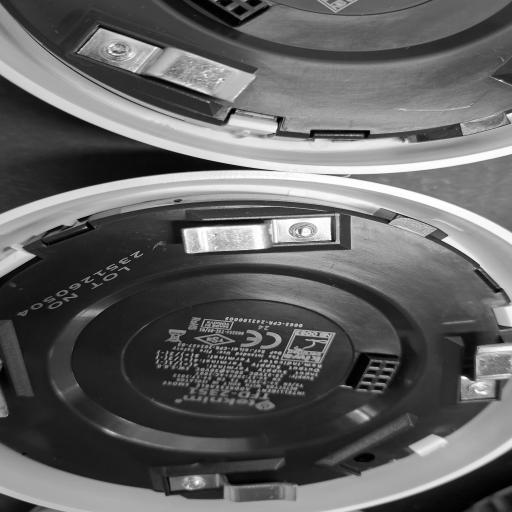yaysiz: (76, 18, 283, 113), (154, 207, 350, 261), (157, 463, 309, 507)
